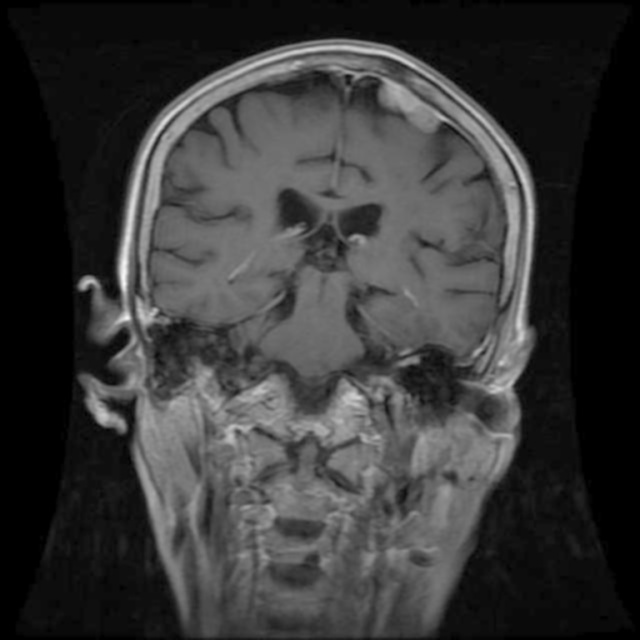meningioma tumor: (359, 72, 466, 150)
